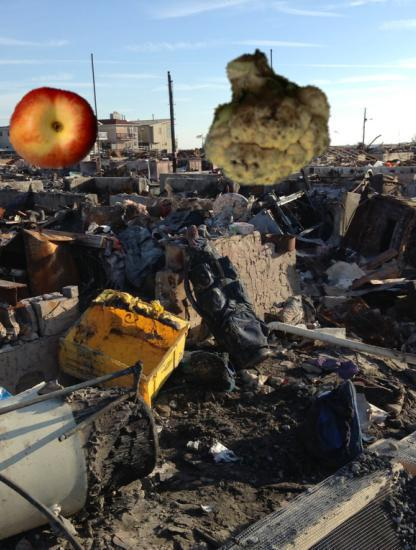Cauliflower: (190, 48, 332, 190)
Nectarine: (7, 82, 99, 174)
